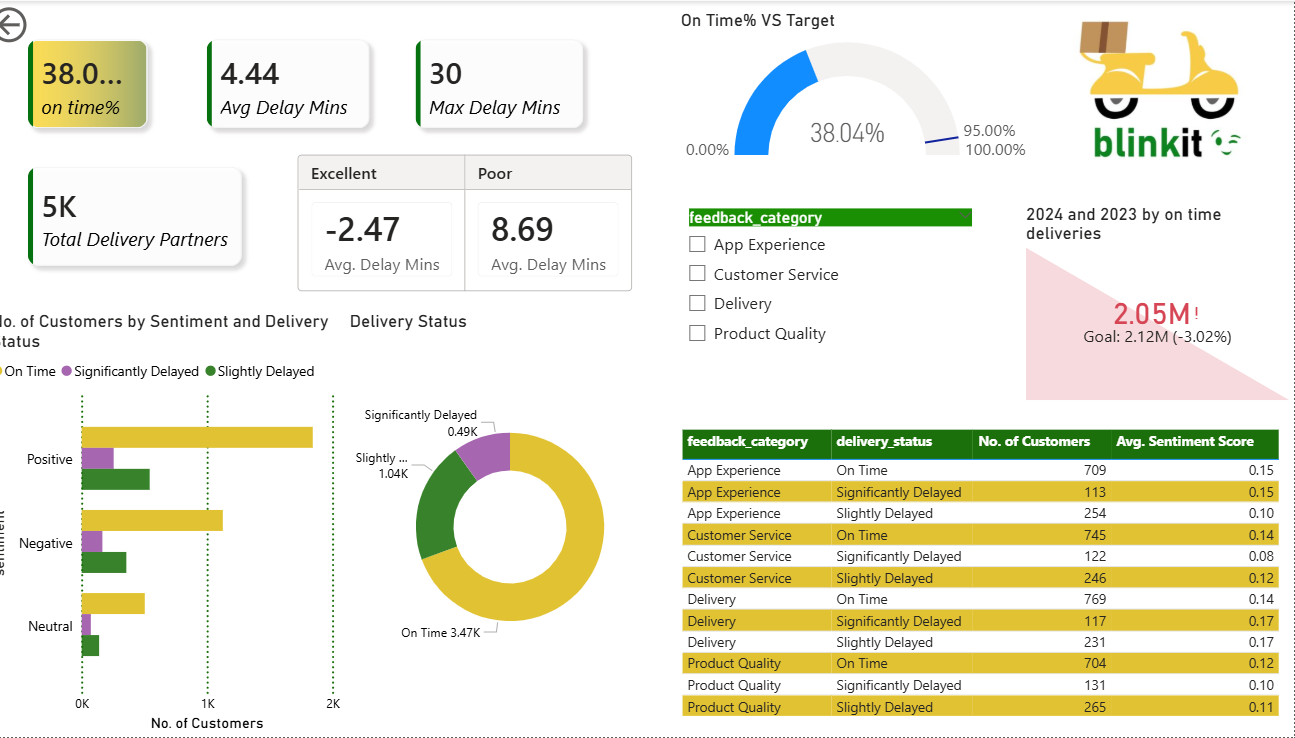

The dashboard page shown, as its layout file describes it:
{"tool":"powerbi","page":{"name":"Delivery Performance","canvas":[1280,720],"ordinal":3},"visuals":[{"type":"cardVisual","fields":{"Data":["delivery partner performance.on time%"]},"box":[12.5,8.8,175,145],"z":0},{"type":"cardVisual","fields":{"Data":["Avg(delivery partner performance.avg_delay_mins)"]},"box":[187.5,8.8,217.5,145],"z":1000},{"type":"cardVisual","fields":{"Data":["Max(delivery partner performance.avg_delay_mins)"]},"box":[391.2,8.8,222.5,145],"z":2000},{"type":"cardVisual","fields":{"Data":["Avg(delivery partner performance.avg_delay_mins)"],"Rows":["delivery partner performance.performance_rating"]},"box":[280,145,377.5,143.8],"z":3000},{"type":"cardVisual","fields":{"Data":["CountNonNull(delivery partner performance.delivery_partner_id)"]},"box":[12.5,133.8,267.5,155],"z":4000},{"type":"tableEx","fields":{"Values":["delivery feedback.feedback_category","delivery feedback.delivery_status","delivery feedback.customer_id","Avg(delivery feedback.sentiment_score)"]},"box":[675,415,605,305],"z":5000},{"type":"slicer","fields":{"Values":["delivery feedback.feedback_category"]},"box":[675,197.5,302.5,197.5],"z":6000},{"type":"donutChart","title":"Delivery Status","fields":{"Category":["delivery feedback.delivery_status"],"Y":["CountNonNull(delivery feedback.delivery_status)"]},"box":[351.2,303.8,323.8,403.8],"z":7000},{"type":"gauge","title":"On Time% VS Target","fields":{"Y":["delivery partner performance.on time%"],"TargetValue":["C:\\Users\\HP\\Downloads\\archive (18)\\_Rating_Icon xlsx.OTIF Target"]},"box":[675,8.8,352.5,160],"z":8000},{"type":"kpi","title":"2024 and 2023 by on time deliveries","fields":{"Indicator":["sales data.2024"],"Goal":["sales data.2023"],"TrendLine":["delivery partner performance.on_time_deliveries"]},"box":[1012.5,197.5,267.5,197.5],"z":9000},{"type":"clusteredBarChart","title":"No. of Customers by Sentiment and Delivery Status","fields":{"Category":["delivery feedback.sentiment"],"Series":["delivery feedback.delivery_status"],"Y":["CountNonNull(delivery feedback.customer_id)"]},"box":[0,303.8,351.2,416.2],"z":10000},{"type":"image","box":[1027.5,8.8,252.5,160],"z":11000},{"type":"actionButton","box":[0,0,45,46.2],"z":12000}]}

Visuals, with their boxes in screenshot pixels (x1, y1, x2, y2), scaled from the page's 1280x720 canvas onto the 1295x738 screenshot:
cardVisual - delivery partner performance.on time%: 13, 9, 190, 158
cardVisual - Avg(delivery partner performance.avg_delay_mins): 190, 9, 410, 158
cardVisual - Max(delivery partner performance.avg_delay_mins): 396, 9, 621, 158
cardVisual - Avg(delivery partner performance.avg_delay_mins) x delivery partner performance.performance_rating: 283, 149, 665, 296
cardVisual - CountNonNull(delivery partner performance.delivery_partner_id): 13, 137, 283, 296
tableEx - delivery feedback.feedback_category x delivery feedback.delivery_status: 683, 425, 1294, 737
slicer - delivery feedback.feedback_category: 683, 202, 989, 405
"Delivery Status" donutChart: 355, 311, 683, 725
"On Time% VS Target" gauge: 683, 9, 1040, 173
"2024 and 2023 by on time deliveries" kpi: 1024, 202, 1294, 405
"No. of Customers by Sentiment and Delivery Status" clusteredBarChart: 0, 311, 355, 737
image: 1040, 9, 1294, 173
actionButton: 0, 0, 46, 47
